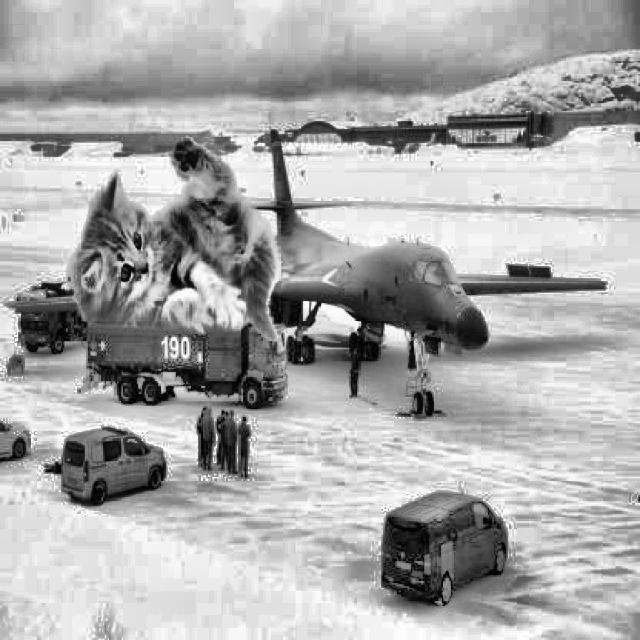B1: (3, 129, 608, 417)
